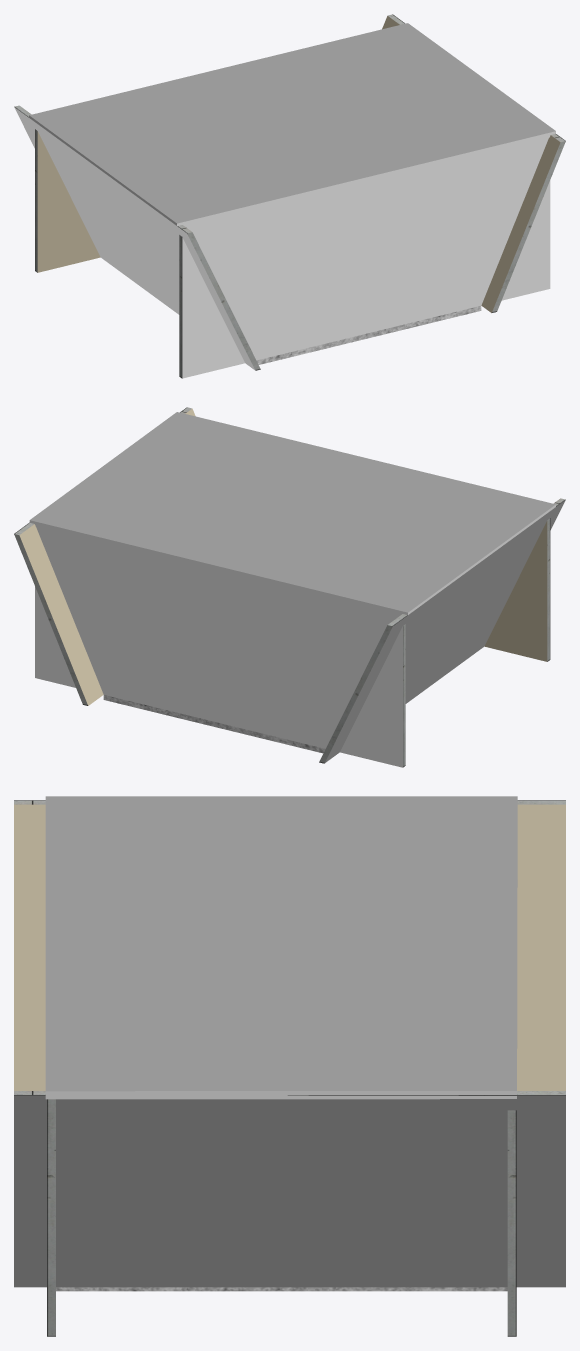
File: stół 1 .fbx
3 views of the same model, one above another, from view 1: azimuth 30°, elevation 25°; view 2: azimuth 150°, elevation 25°; view 3: azimuth 270°, elevation 25° (orthographic). The views are drawn at different scales.
Visible parts, largest first — view 1: Farba - Biel tytanowa, Farba - Jasna szarość, Farba - Beż piaskowy, Beton - 04, Kamień - Granit szary; view 2: Farba - Biel tytanowa, Farba - Jasna szarość, Farba - Beż piaskowy, Beton - 04, Kamień - Granit szary; view 3: Farba - Jasna szarość, Farba - Biel tytanowa, Farba - Beż piaskowy, Beton - 04, Kamień - Granit szary.
Boxes of the visible parts, <box> form: Farba - Biel tytanowa: <box>14,107,555,378</box>; Farba - Jasna szarość: <box>29,23,555,223</box>; Farba - Beż piaskowy: <box>37,16,560,312</box>; Beton - 04: <box>14,14,565,378</box>; Kamień - Granit szary: <box>256,306,481,364</box>; Farba - Biel tytanowa: <box>29,500,565,767</box>; Farba - Jasna szarość: <box>30,412,555,612</box>; Farba - Beż piaskowy: <box>19,408,547,705</box>; Beton - 04: <box>14,407,565,767</box>; Kamień - Granit szary: <box>103,695,325,753</box>; Farba - Jasna szarość: <box>45,796,517,1091</box>; Farba - Biel tytanowa: <box>14,880,565,1287</box>; Farba - Beż piaskowy: <box>14,804,565,1090</box>; Beton - 04: <box>14,800,565,1336</box>; Kamień - Granit szary: <box>56,1287,507,1291</box>.
Bounding box in the file's own units: 154 × 122 × 63.
Materials: 5 (2 with a texture image).
